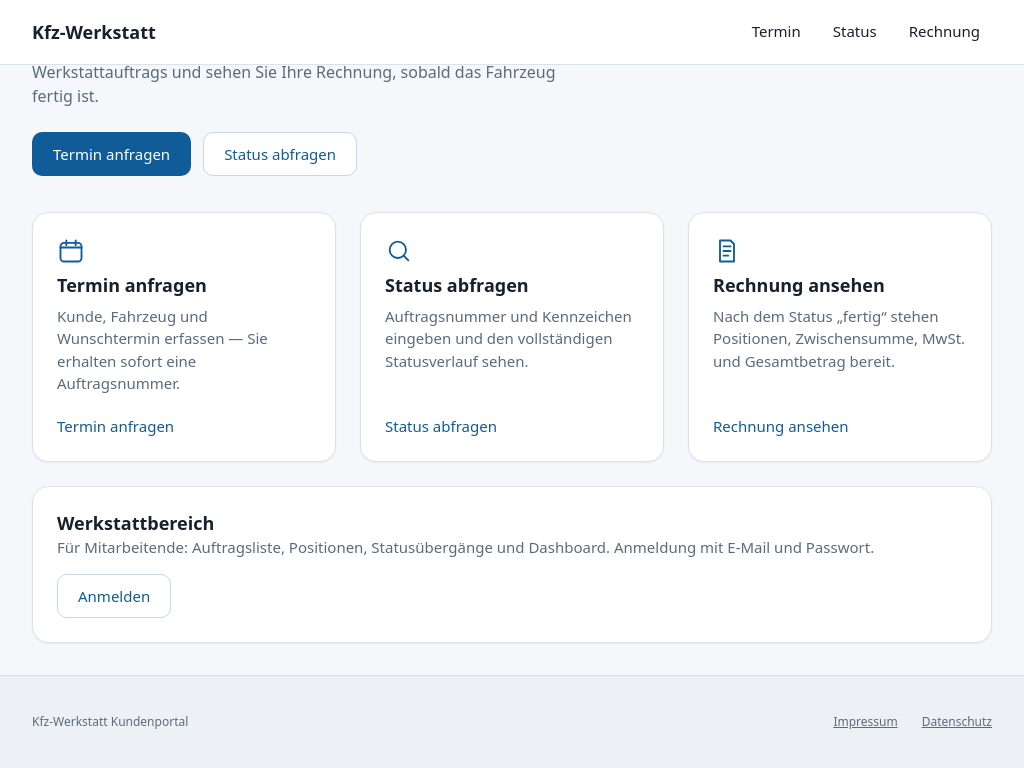
Test: legal pages reachability › is reachable from another page through the footer links
The width and height of the screenshot is (1024, 768).
(page scrolled)
Click the link "Impressum". click: (866, 722)
box: [833, 713, 898, 730]
(page scrolled)
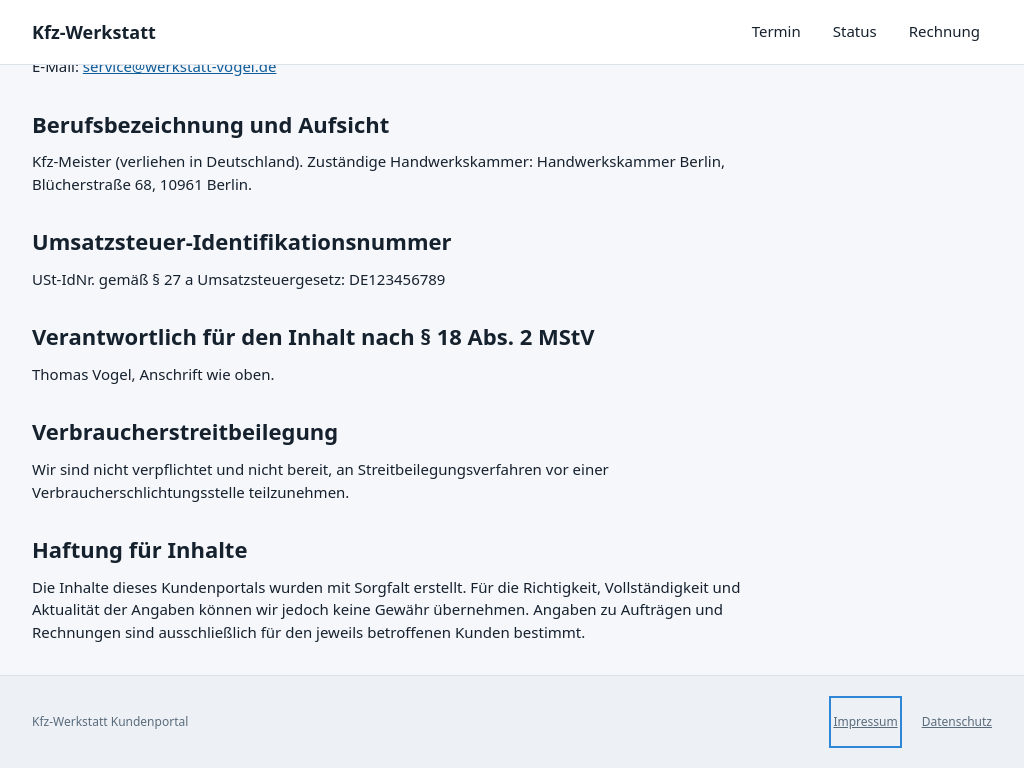
Click the link "Datenschutz". click: (957, 722)
box: [922, 713, 992, 730]
(page scrolled)
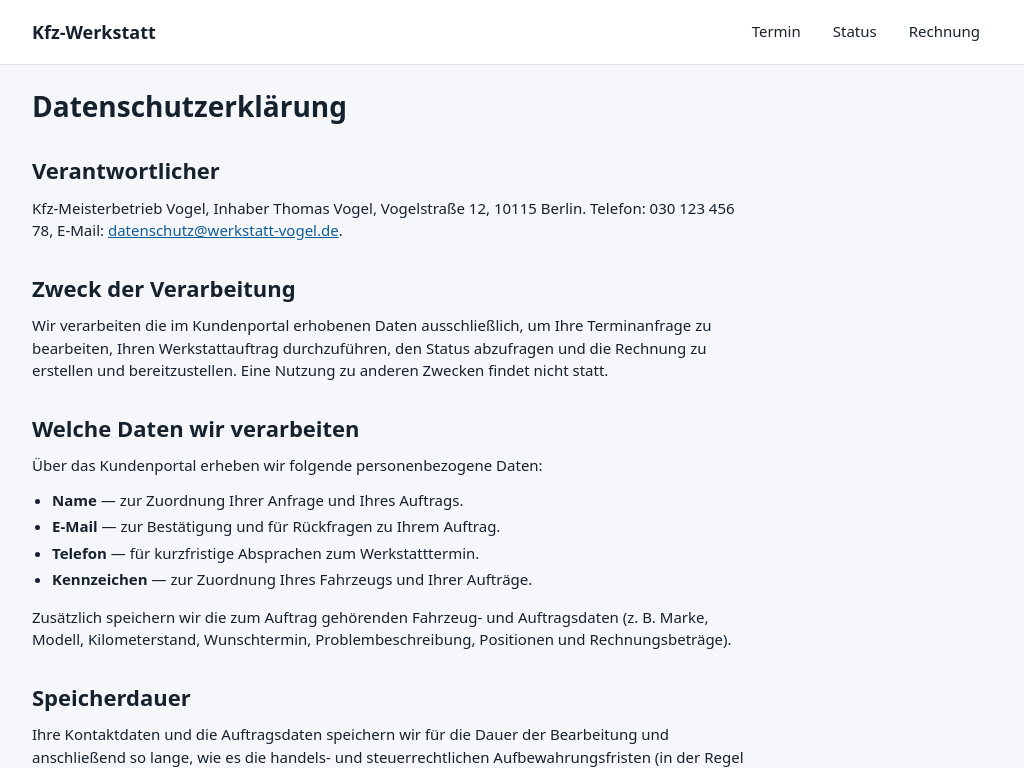
Expected: the heading "Datenschutzerklärung" is shown, [32, 87, 347, 125]
